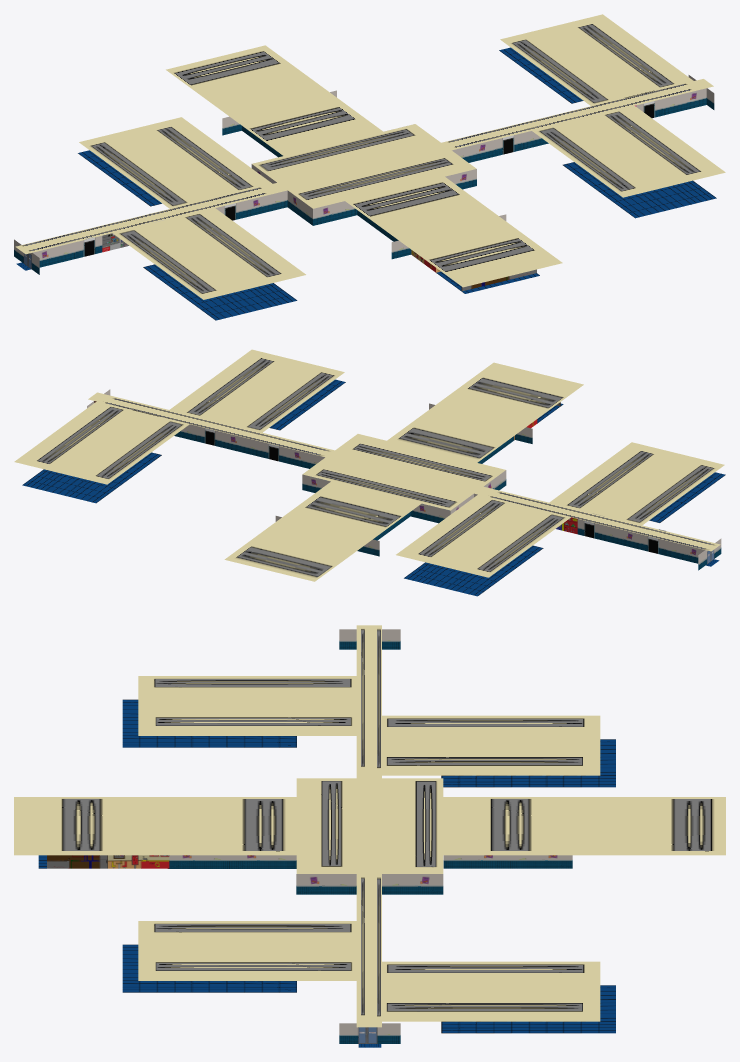
The model's file is mallfinalplz.fbx.
3 renders of one model, top to bottom at view 1: azimuth 30°, elevation 25°; view 2: azimuth 150°, elevation 25°; view 3: azimuth 270°, elevation 25°, orthographic. The views are drawn at different scales.
Visible parts, largest first — view 1: mallwall.007, ceiling.002, ceiling.001, ceiling.006, ceiling.005, ceiling.007, ceiling, ceiling.004, ceiling.003, floor.003, floor.002, floor.001 (+1 smaller); view 2: mallwall.007, ceiling.002, ceiling.001, ceiling.007, ceiling.006, ceiling.005, ceiling, ceiling.003, ceiling.004, floor, floor.001, floor.002 (+1 smaller); view 3: mallwall.007, ceiling.002, ceiling.001, ceiling, ceiling.005, ceiling.007, ceiling.006, ceiling.003, ceiling.004, floor.001, floor, floor.002 (+1 smaller).
Boxes of the visible parts, box(x1,y1,x2,y2) form: mallwall.007: box(14, 75, 714, 293); ceiling.002: box(166, 45, 383, 156); ceiling.001: box(345, 176, 562, 287); ceiling.006: box(532, 105, 725, 197); ceiling.005: box(500, 14, 693, 105); ceiling.007: box(112, 208, 305, 299); ceiling: box(79, 117, 272, 208); ceiling.004: box(15, 182, 288, 254); ceiling.003: box(441, 79, 713, 150); floor.003: box(143, 264, 297, 320); floor.002: box(563, 162, 716, 218); floor.001: box(499, 47, 583, 103); mallwall.007: box(87, 389, 721, 570); ceiling.002: box(224, 481, 421, 581); ceiling.001: box(387, 362, 583, 462); ceiling.007: box(549, 442, 724, 525); ceiling.006: box(169, 349, 344, 432); ceiling.005: box(14, 401, 189, 484); ceiling: box(396, 494, 570, 577); ceiling.003: box(88, 392, 334, 457); ceiling.004: box(474, 486, 720, 551); floor: box(404, 545, 543, 596); floor.001: box(22, 452, 161, 503); floor.002: box(269, 379, 345, 430); mallwall.007: box(38, 629, 572, 1047); ceiling.002: box(442, 797, 725, 855); ceiling.001: box(14, 797, 296, 855); ceiling: box(381, 715, 600, 775); ceiling.005: box(381, 961, 600, 1021); ceiling.007: box(138, 676, 357, 735); ceiling.006: box(138, 921, 357, 980); ceiling.003: box(356, 873, 381, 1027); ceiling.004: box(356, 625, 381, 778); floor.001: box(441, 985, 615, 1033); floor: box(441, 739, 615, 787); floor.002: box(122, 944, 296, 992).
Bounding box in the file's own units: 4204 × 107 × 3146.
Materials: 96 (96 with a texture image).
